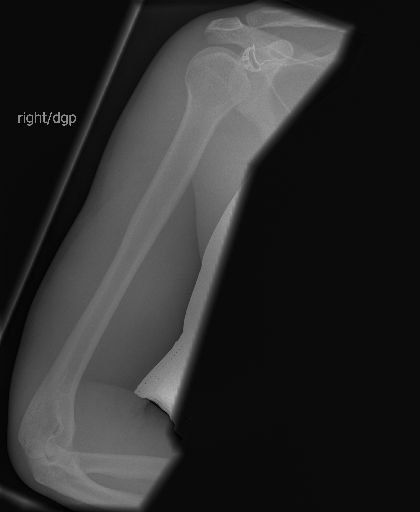implant: (233, 37, 270, 83)
